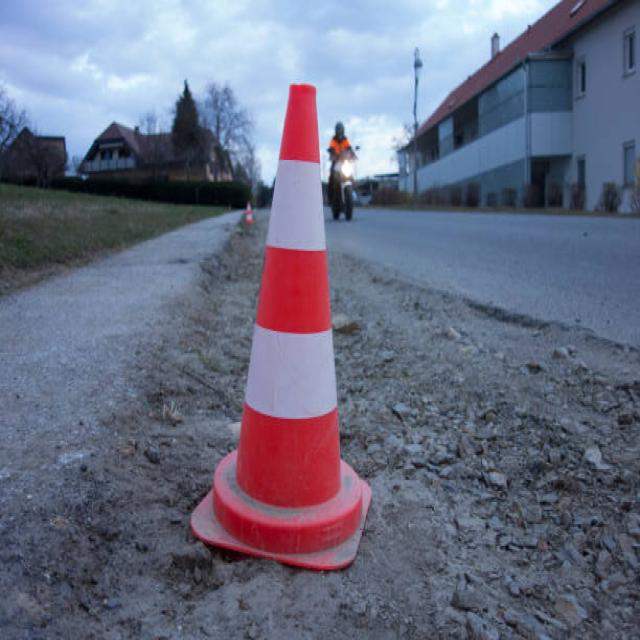Traffic Cone: (172, 73, 390, 593)
